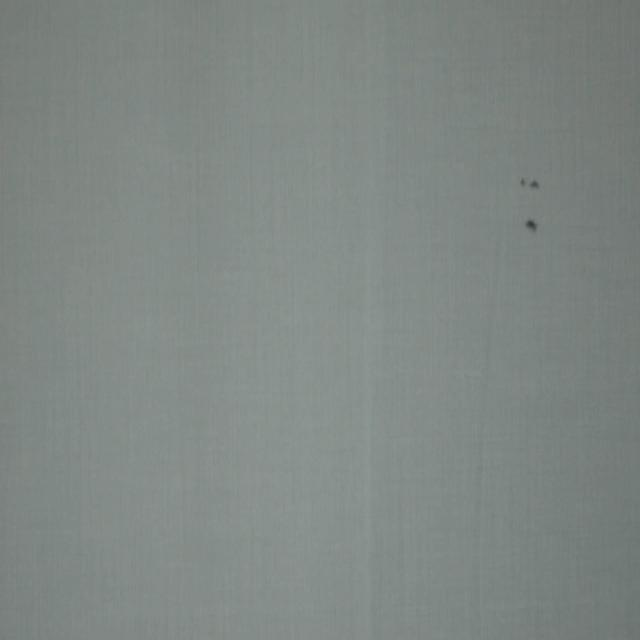dirty: (524, 217, 538, 232), (530, 178, 542, 191), (520, 177, 526, 189)
